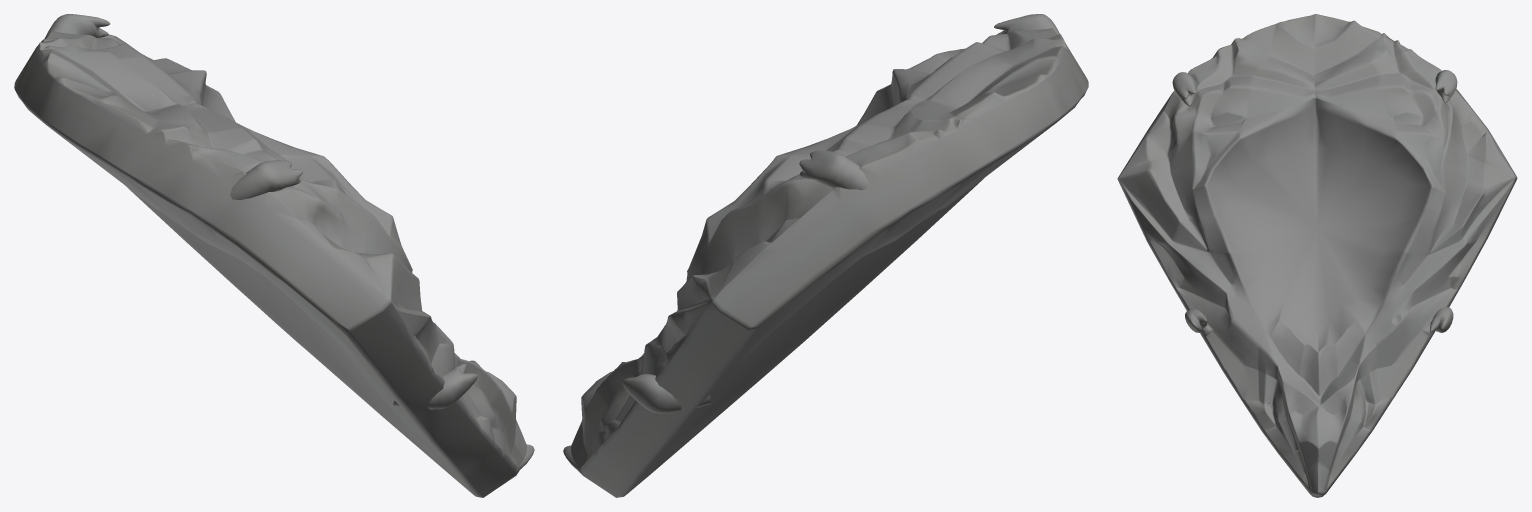
File: royal-diamond.glb
The picture shows the model from 3 angles, left to right: view 1: azimuth 30°, elevation 25°; view 2: azimuth 150°, elevation 25°; view 3: azimuth 270°, elevation 25°; orthographic projection. The views are drawn at different scales.
Visible parts, largest first — view 1: tripo_node_e595d7c8-d817-4b27-93a4-7fa55a9b44e5; view 2: tripo_node_e595d7c8-d817-4b27-93a4-7fa55a9b44e5; view 3: tripo_node_e595d7c8-d817-4b27-93a4-7fa55a9b44e5.
Boxes of the visible parts, x1,y1,x2,y2 form: tripo_node_e595d7c8-d817-4b27-93a4-7fa55a9b44e5: [14, 14, 534, 497]; tripo_node_e595d7c8-d817-4b27-93a4-7fa55a9b44e5: [563, 14, 1088, 497]; tripo_node_e595d7c8-d817-4b27-93a4-7fa55a9b44e5: [1117, 14, 1517, 497].
Bounding box in the file's own units: 0.9438 × 0.9556 × 0.9995.
1 material, 1 textured.
